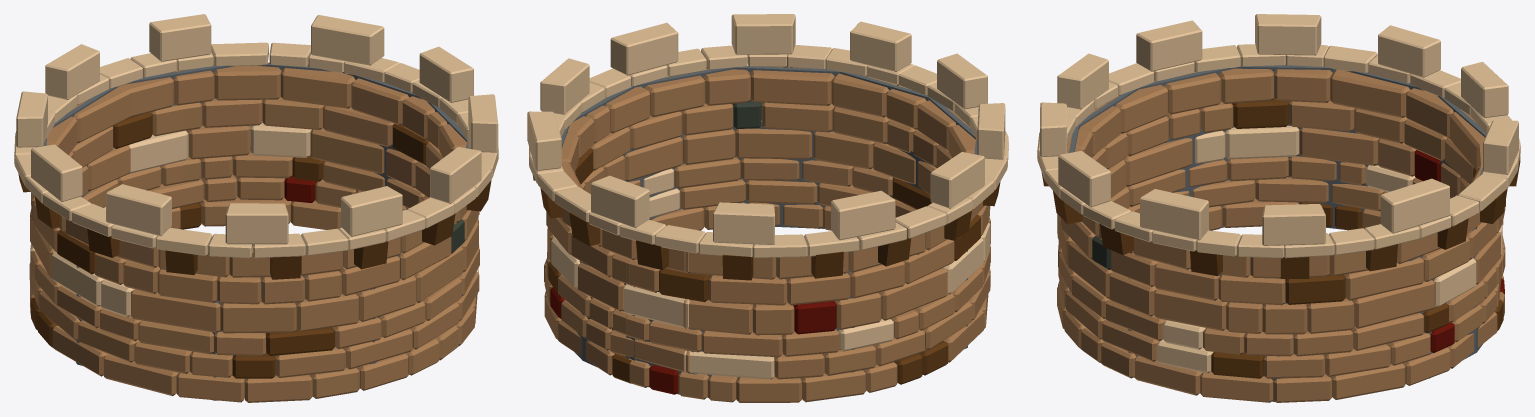
File: top-section-with-crenellation.glb
3 views of the same model, side by side, from view 1: azimuth 30°, elevation 25°; view 2: azimuth 150°, elevation 25°; view 3: azimuth 270°, elevation 25° (orthographic).
Parts seen in each view (by area): view 1: main-wall.112, top-section-2.002, top-section-1.001, grout-wall.004, strut-1.001, strut-11.001, strut-8.001, strut-15.001, strut-12.001, strut-4.001; view 2: main-wall.112, top-section-2.002, top-section-1.001, grout-wall.004, strut-6.001, strut-16.001, strut-2.001, strut-10.001, strut-9.001, strut-4.001; view 3: main-wall.112, top-section-2.002, top-section-1.001, grout-wall.004, strut-13.001, strut-14.001, strut-5.001, strut-3.001, strut-7.001, strut-9.001, strut-12.001.
Boxes of the visible parts, <box> form: main-wall.112: <box>29,65,479,402</box>; top-section-2.002: <box>16,14,498,244</box>; top-section-1.001: <box>14,42,498,258</box>; grout-wall.004: <box>43,62,468,400</box>; strut-1.001: <box>354,241,388,269</box>; strut-11.001: <box>270,256,301,279</box>; strut-8.001: <box>165,250,197,274</box>; strut-15.001: <box>87,228,119,257</box>; strut-12.001: <box>422,214,455,245</box>; strut-4.001: <box>34,196,60,228</box>; main-wall.112: <box>544,67,990,402</box>; top-section-2.002: <box>527,14,1005,244</box>; top-section-1.001: <box>529,45,1008,257</box>; grout-wall.004: <box>561,66,977,397</box>; strut-6.001: <box>811,251,843,278</box>; strut-16.001: <box>722,254,753,280</box>; strut-2.001: <box>636,240,668,270</box>; strut-10.001: <box>878,237,911,266</box>; strut-9.001: <box>569,212,600,246</box>; strut-4.001: <box>944,210,971,240</box>; main-wall.112: <box>1057,68,1505,402</box>; top-section-2.002: <box>1040,14,1518,245</box>; top-section-1.001: <box>1037,44,1520,258</box>; grout-wall.004: <box>1069,65,1499,402</box>; strut-13.001: <box>1190,250,1222,276</box>; strut-14.001: <box>1366,244,1397,271</box>; strut-5.001: <box>1100,224,1133,254</box>; strut-3.001: <box>1280,256,1309,278</box>; strut-7.001: <box>1437,218,1468,249</box>; strut-9.001: <box>1480,188,1507,223</box>; strut-12.001: <box>1053,191,1082,223</box>.
Bounding box in the file's own units: 3.12 × 1.4 × 3.12.
